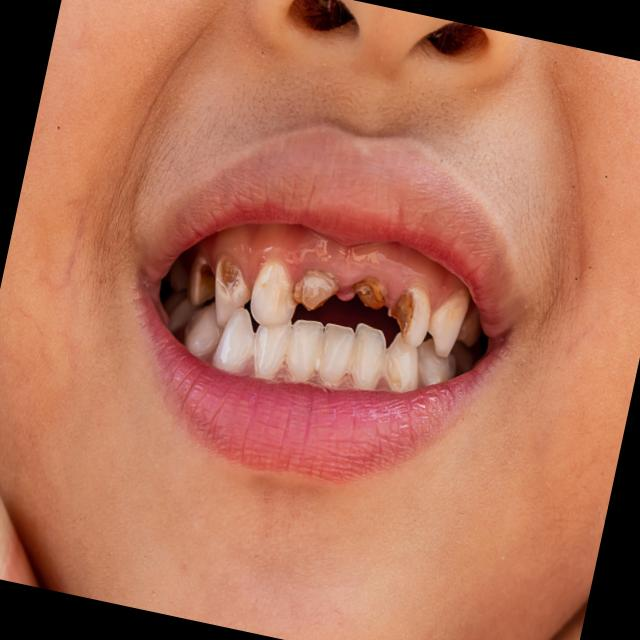Caries: (351, 276, 387, 309), (205, 267, 214, 284)
Cavity: (388, 288, 415, 346), (215, 255, 243, 298), (197, 264, 215, 304)
Tooth: (250, 259, 297, 326), (427, 287, 470, 357), (387, 282, 431, 347), (214, 306, 255, 372), (214, 254, 250, 329), (349, 323, 386, 390), (286, 319, 323, 381), (184, 301, 223, 357), (318, 323, 354, 383), (384, 333, 419, 392), (255, 320, 291, 377), (293, 268, 339, 310), (187, 247, 215, 305)
